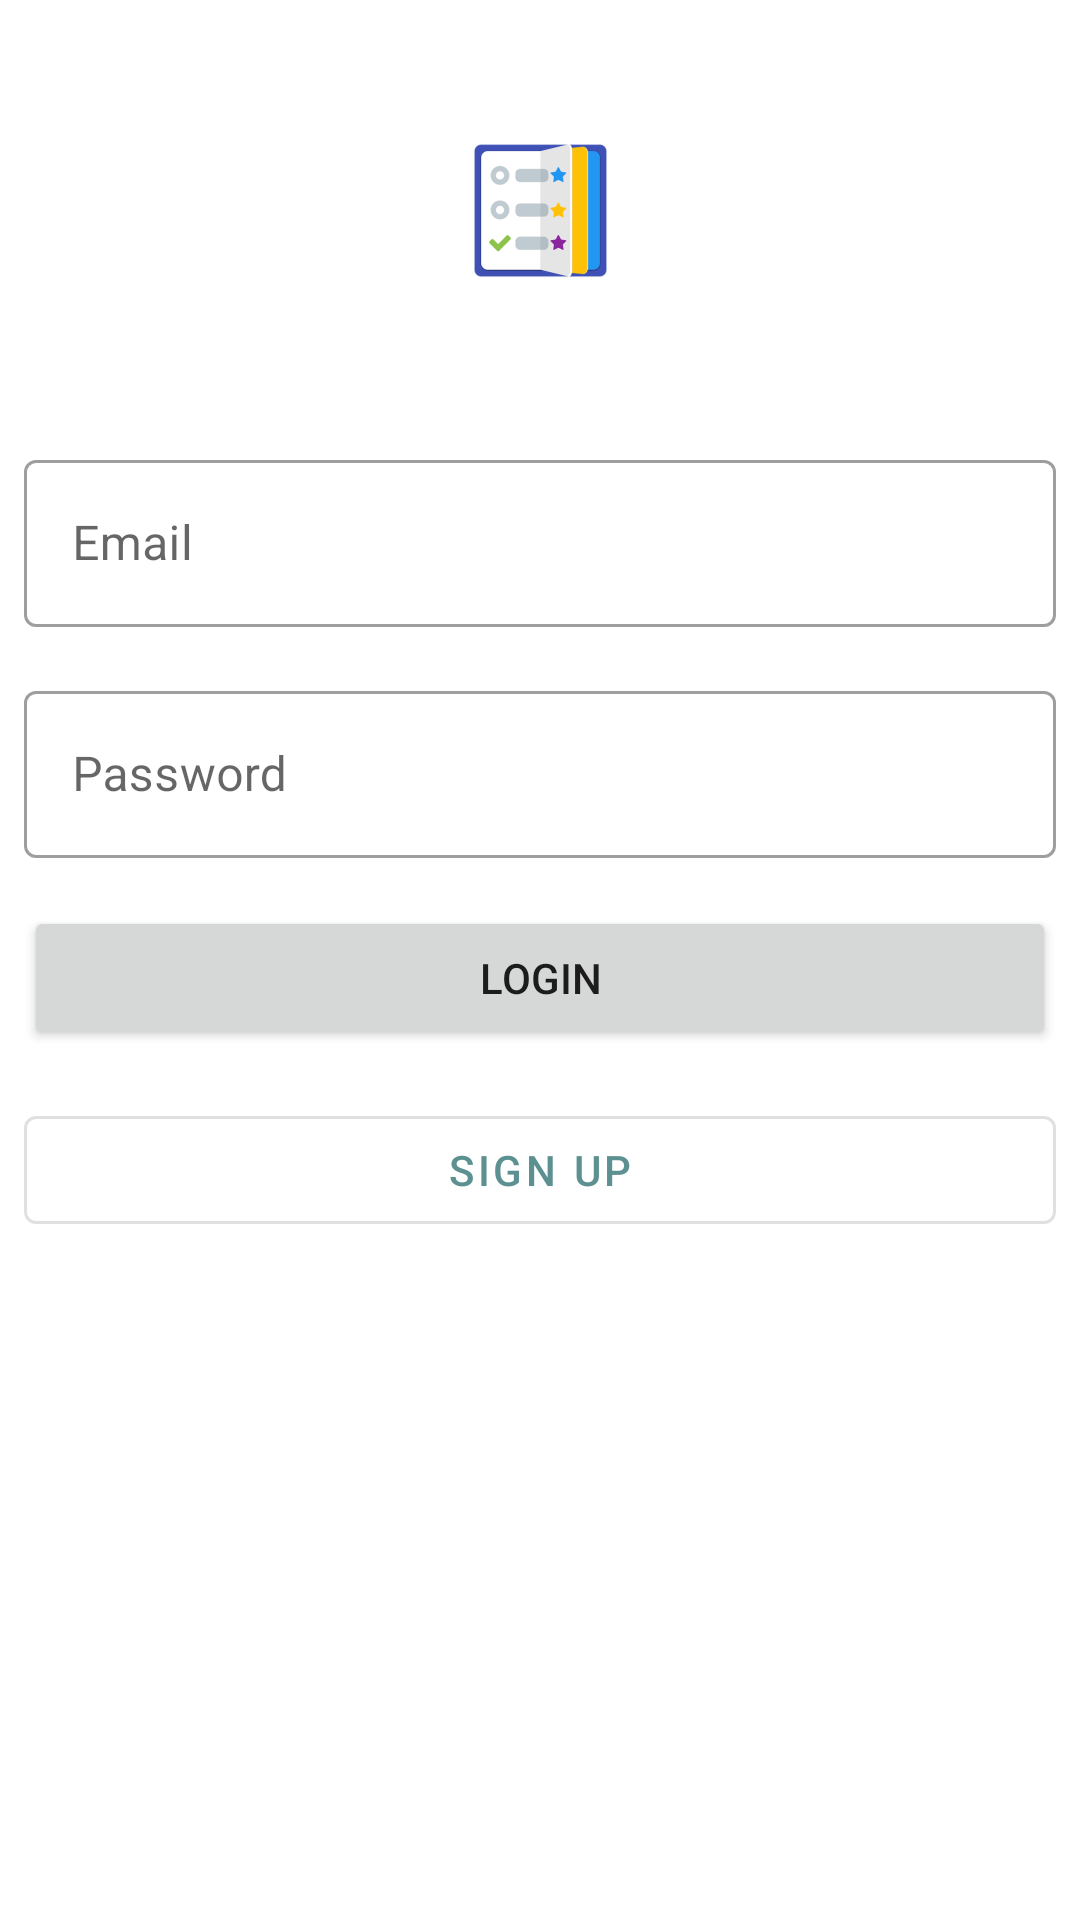

Point at icon controls on the screen. Image size 1080×1920, points as [x,y].
app: [540,210]
